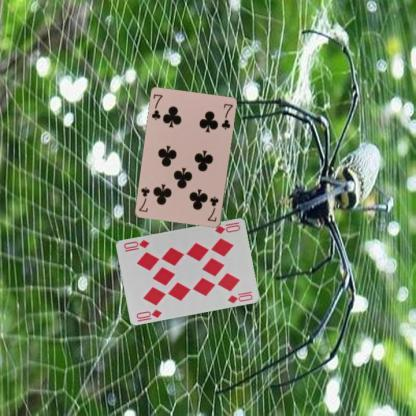10d: (212, 219, 242, 235), (134, 306, 163, 320)
7c: (205, 194, 220, 223), (149, 92, 164, 121)
